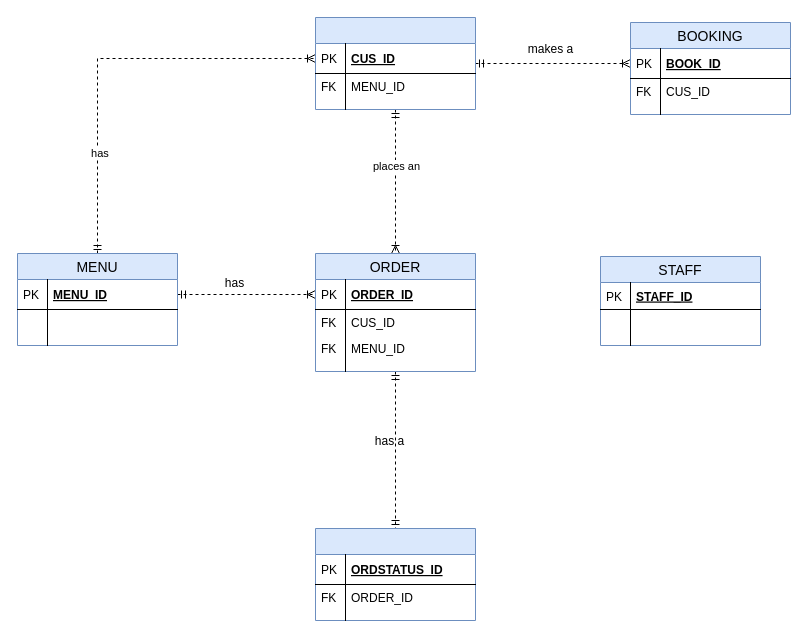
The diagram is 808 pixels wide and 638 high, and some of its shapes have lost their labels. The shapes that lost their labels are listed below. From the top down, each one's box as (x1, y1, x2, y2) in pixels, then its label:
(314, 16, 476, 110): CUSTOMER
(314, 528, 476, 620): ORDERSTATUS
